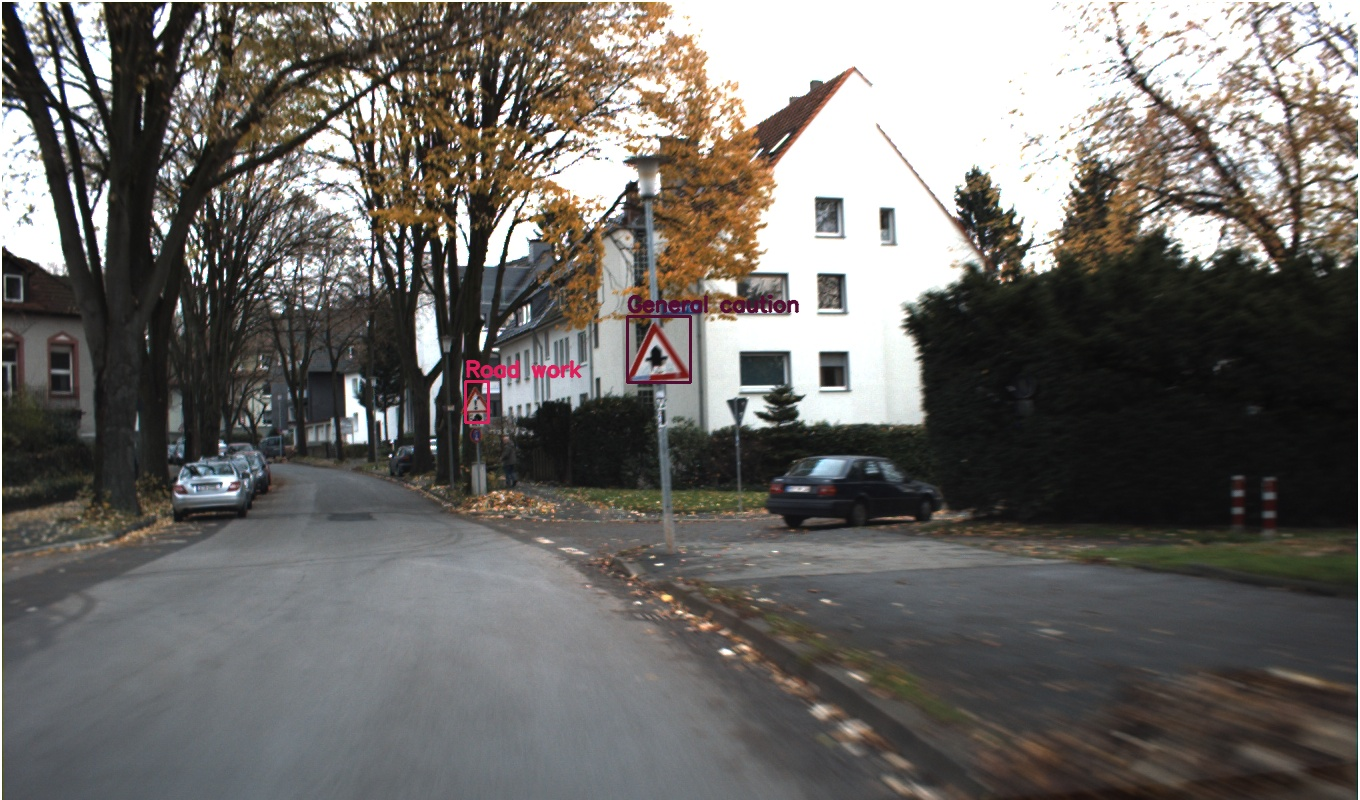Ahead only: (1017, 418, 1038, 443)
Priority road: (1011, 385, 1043, 418)
